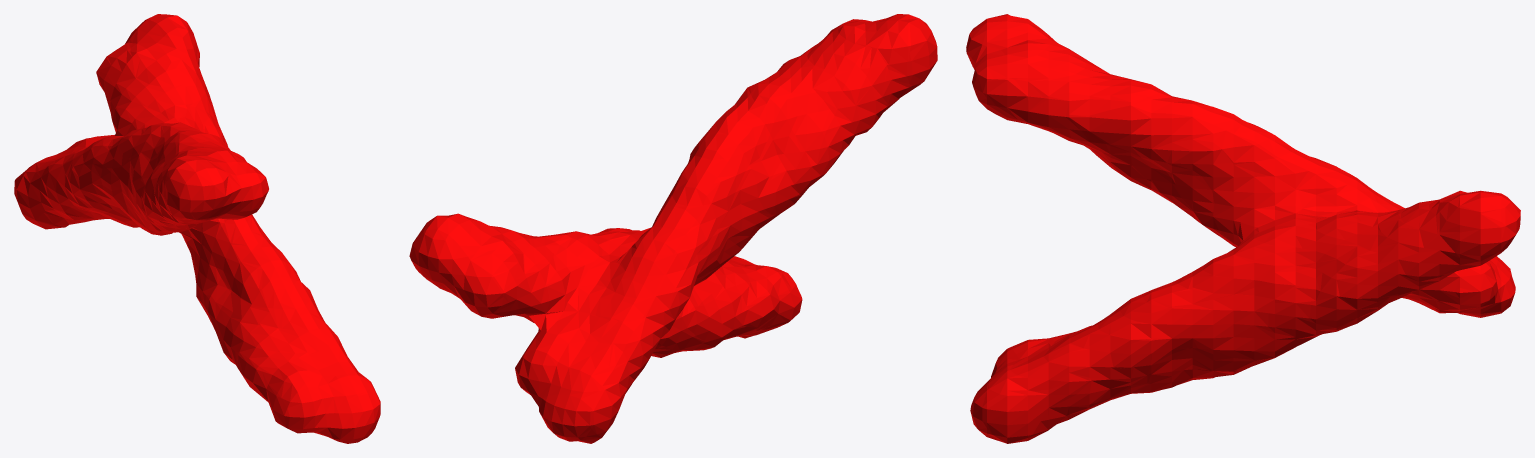
File: zapB_coarse.dae
The picture shows the model from 3 angles, left to right: view 1: azimuth 30°, elevation 25°; view 2: azimuth 150°, elevation 25°; view 3: azimuth 270°, elevation 25°; orthographic projection. The views are drawn at different scales.
Parts seen in each view (by area): view 1: zapB; view 2: zapB; view 3: zapB.
Part boxes in pixels (x1,y1,x2,y2): zapB: (14,14,380,443); zapB: (409,14,937,443); zapB: (966,14,1520,443).
Bounding box in the file's own units: 63 × 76.2 × 113.
